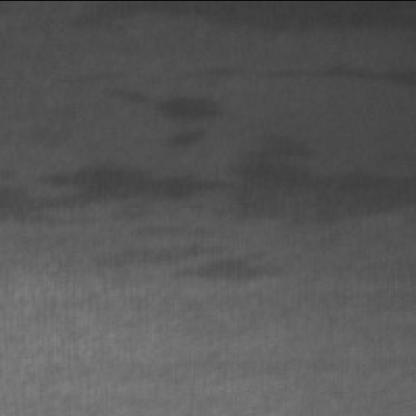inclusion: (21, 156, 416, 233), (96, 6, 410, 40), (87, 84, 242, 148), (162, 248, 300, 302), (254, 56, 416, 94)
